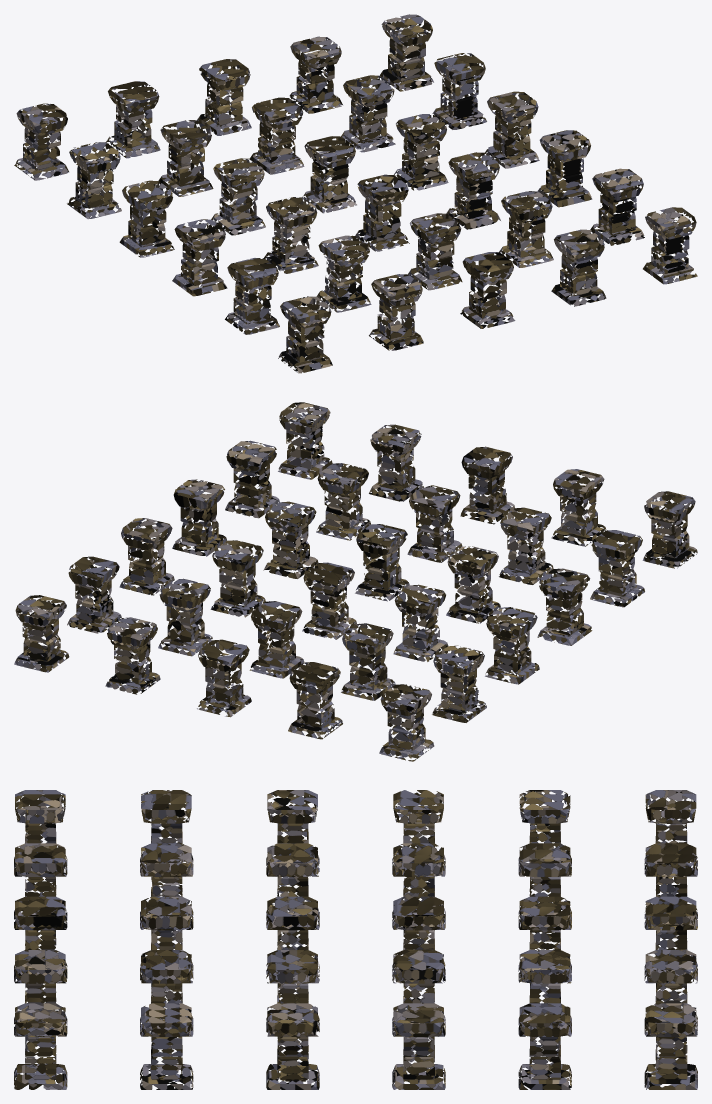
Rendered from Pillars.obj.
3 renders of one model, top to bottom at view 1: azimuth 30°, elevation 25°; view 2: azimuth 150°, elevation 25°; view 3: azimuth 270°, elevation 25°, orthographic. The views are drawn at different scales.
Visible parts, largest first — view 1: Wall6.009_Untitled.062; view 2: Wall6.009_Untitled.062; view 3: Wall6.009_Untitled.062.
Part boxes in pixels (x1,y1,x2,y2): Wall6.009_Untitled.062: (14, 14, 697, 373); Wall6.009_Untitled.062: (14, 402, 697, 761); Wall6.009_Untitled.062: (14, 790, 697, 1089).
Bounding box in the file's own units: 8.77 × 1.17 × 10.84.
